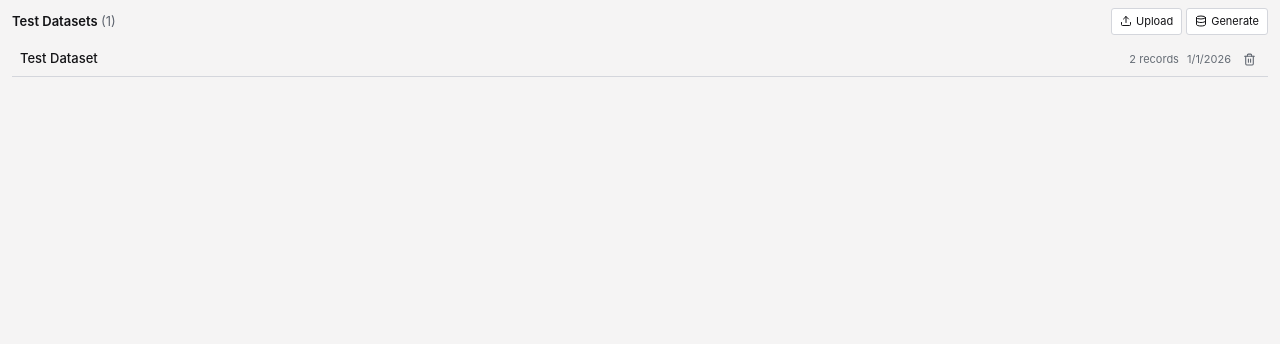
Test: [@schema-datasets-coverage] detail mode — delete from detail › back button in detail mode returns to list without deleting
The width and height of the screenshot is (1280, 344).
Click the text "Test Dataset" at {"x": 59, "y": 58}, box [20, 50, 98, 66]
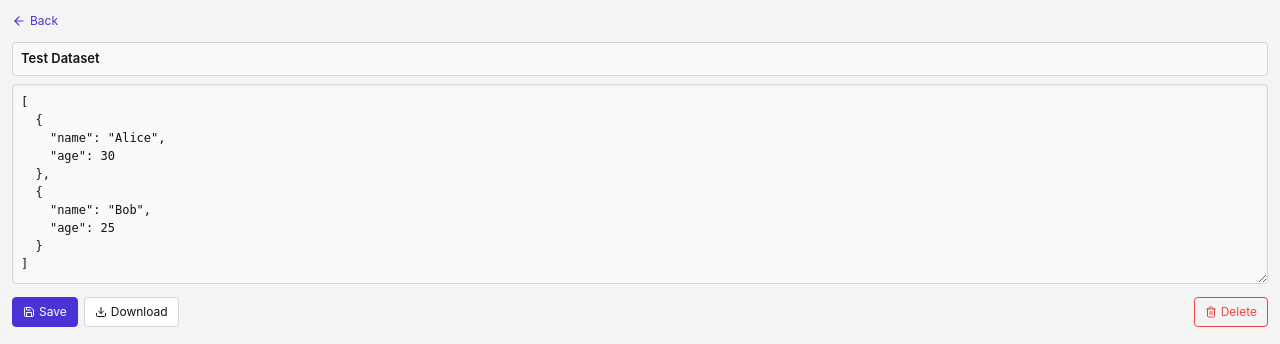
Expected: the field named "Dataset name" is shown, [12, 42, 1268, 76]
Click the button with aria-label "Back to dataset list" at {"x": 35, "y": 21}, box [12, 8, 58, 34]
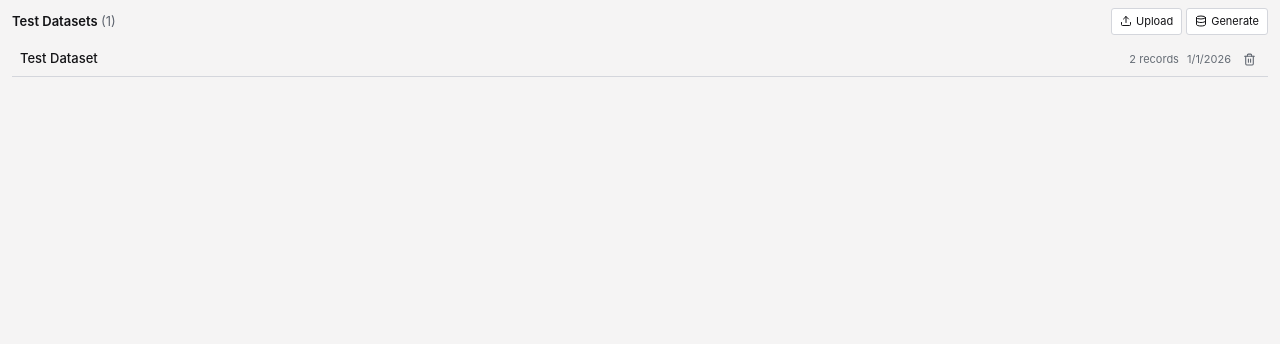
Expected: the text "Test Dataset" is shown, [20, 50, 98, 66]
